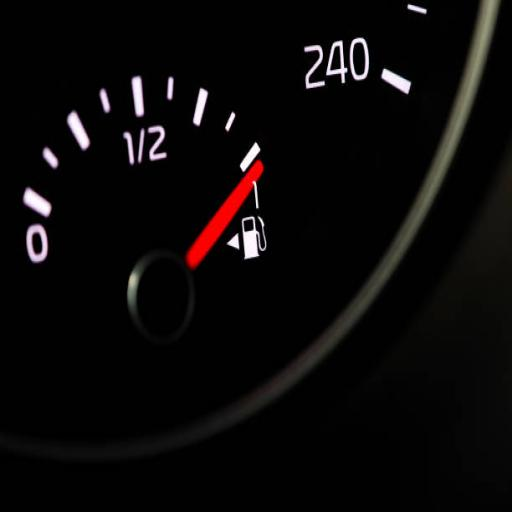empty: (23, 221, 51, 265)
fuel_icon: (238, 216, 274, 262)
full: (252, 180, 262, 210)
guage_area: (19, 58, 272, 377)
needle_center: (124, 242, 212, 348), (246, 161, 271, 179)
